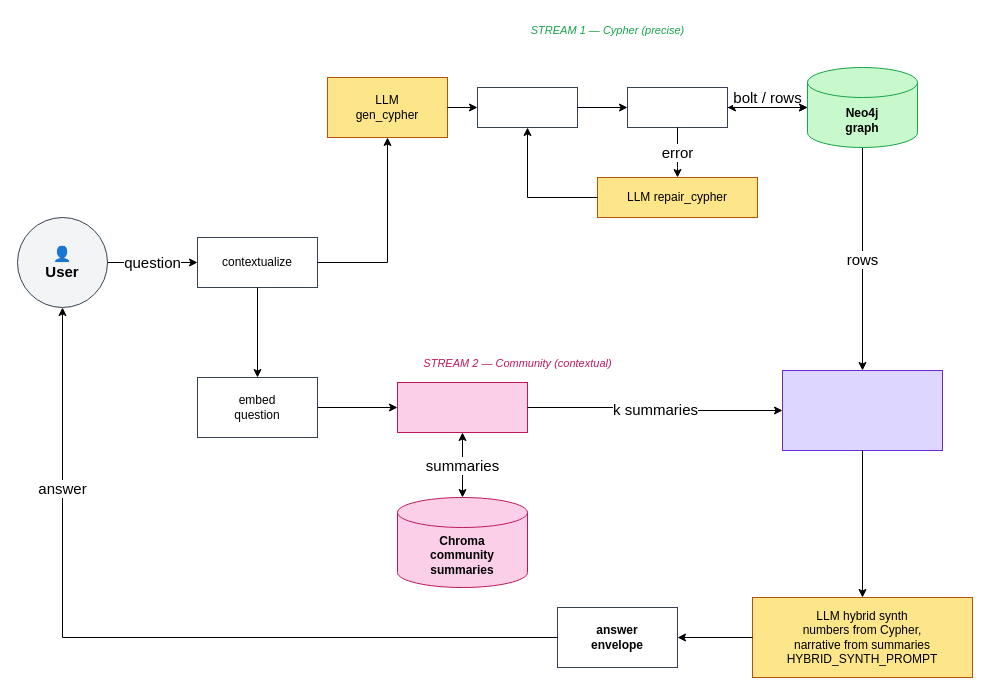
This 990x695 diagram has some shape labels left out. Each missing label, with the box of its shape:
Chroma top-k: (396, 382, 528, 432)
execute: (626, 86, 728, 128)
fusion prompt cypher_block + community_block + FUSION NOTE: (782, 370, 942, 450)
validate: (476, 86, 578, 128)
